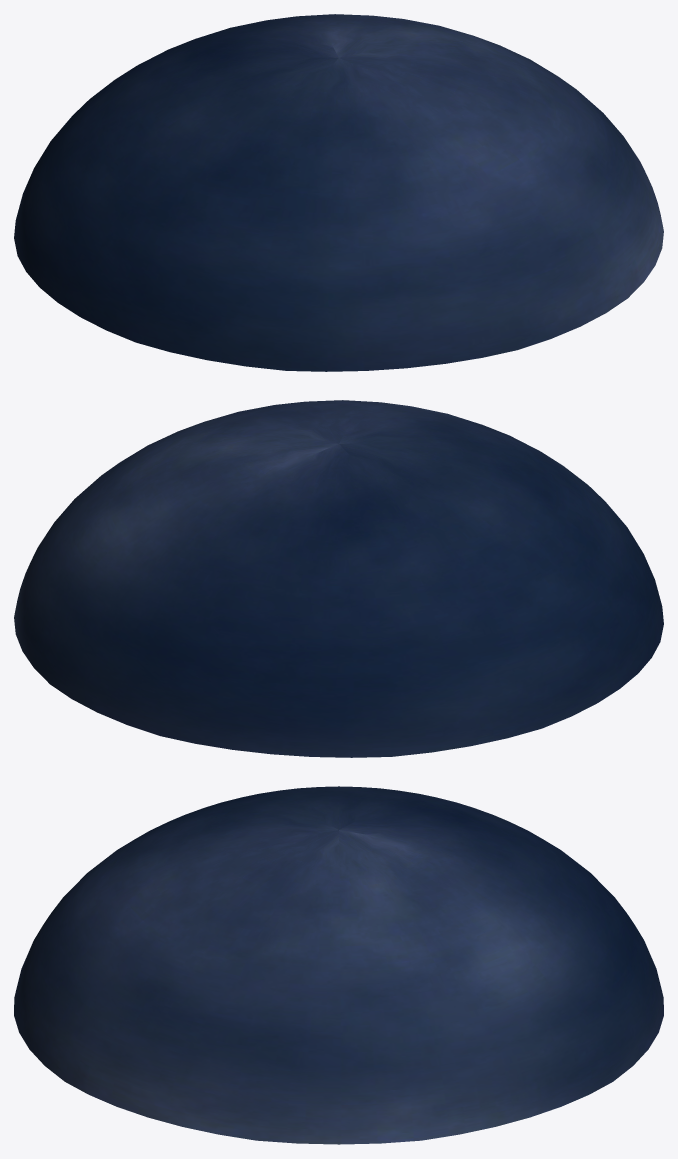
The model's file is no_grass.DAE.
3 views of the same model, one above another, from view 1: azimuth 30°, elevation 25°; view 2: azimuth 150°, elevation 25°; view 3: azimuth 270°, elevation 25° (orthographic).
Parts seen in each view (by area): view 1: SkyBox; view 2: SkyBox; view 3: SkyBox.
Boxes of the visible parts, box(x1,y1,x2,y2) form: SkyBox: box(14, 14, 663, 371); SkyBox: box(14, 400, 663, 757); SkyBox: box(14, 786, 663, 1144).
Size of the model in its own units: 2439 by 734 by 2436.
Materials: 15 (2 with a texture image).
